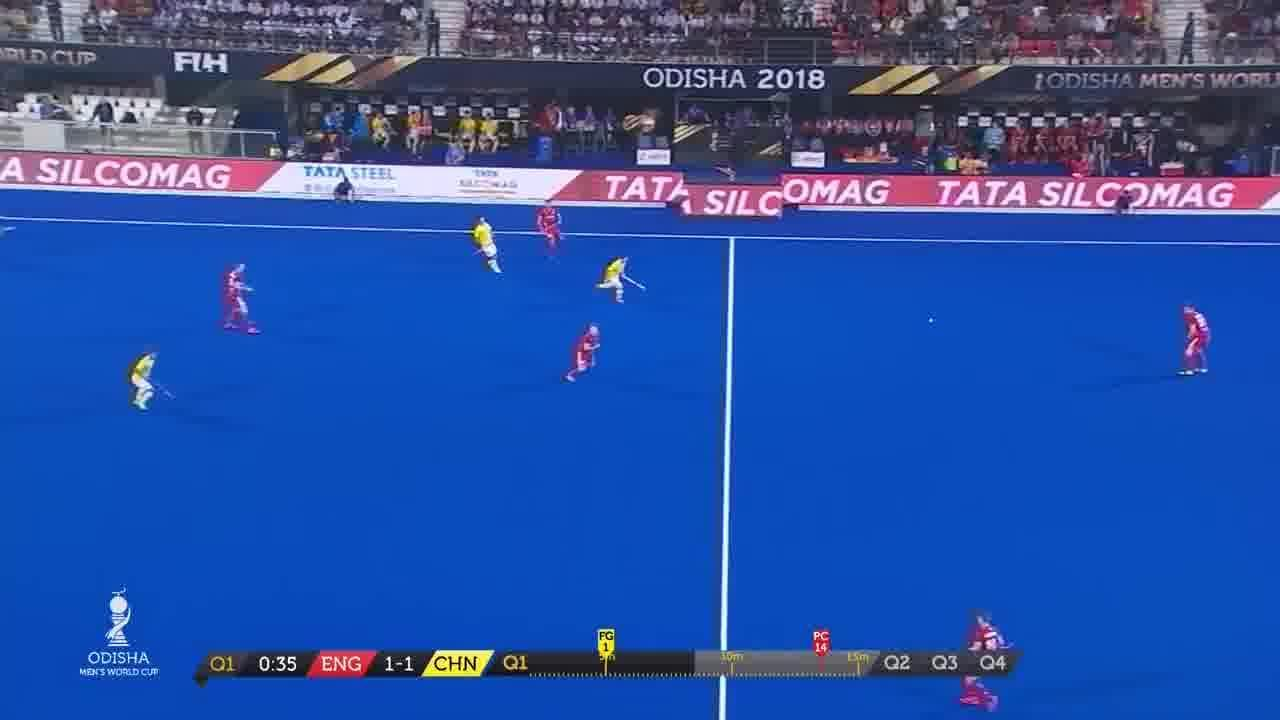ball: (928, 318, 938, 326)
